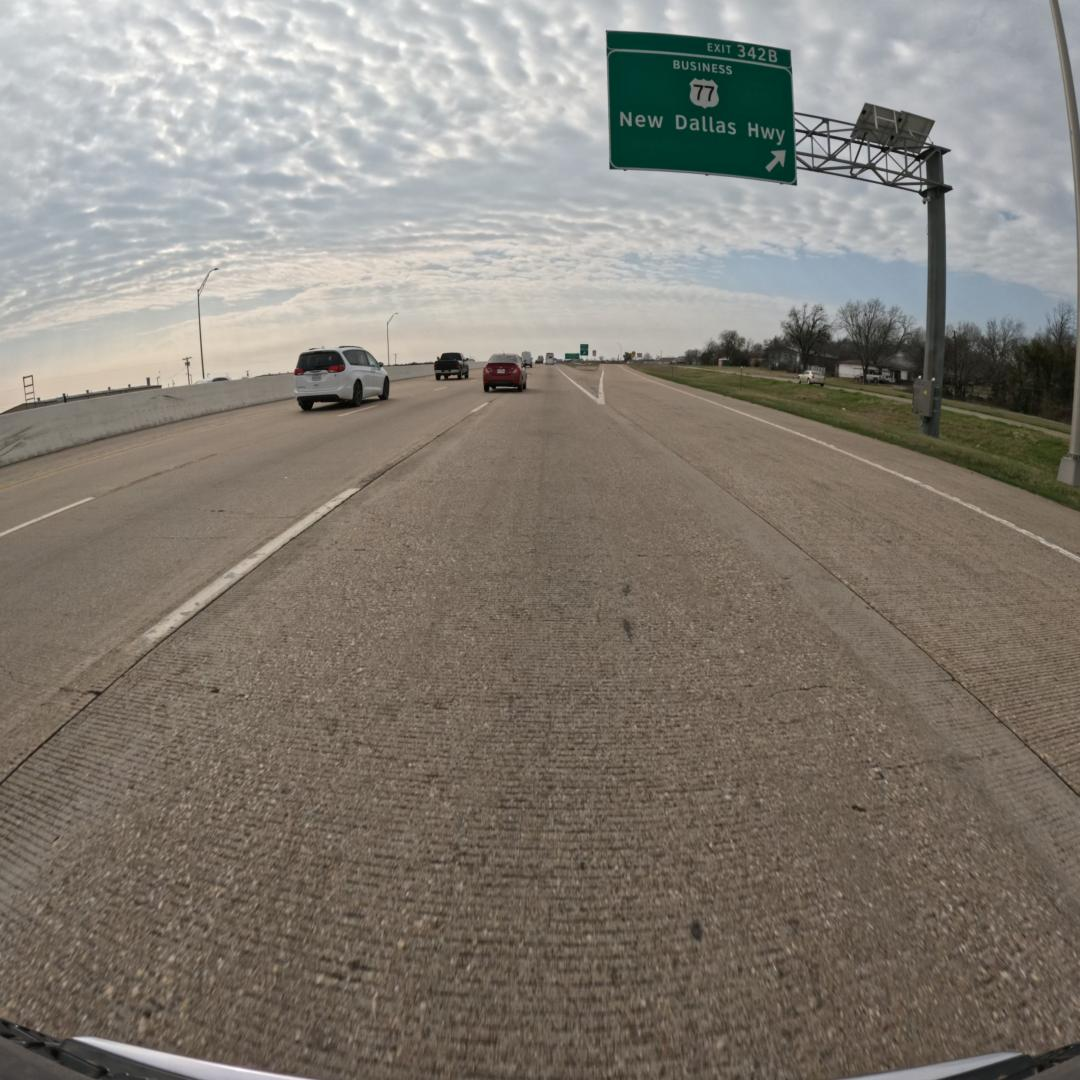lane0: (0, 373, 1080, 1077)
lane1: (0, 388, 488, 780)
